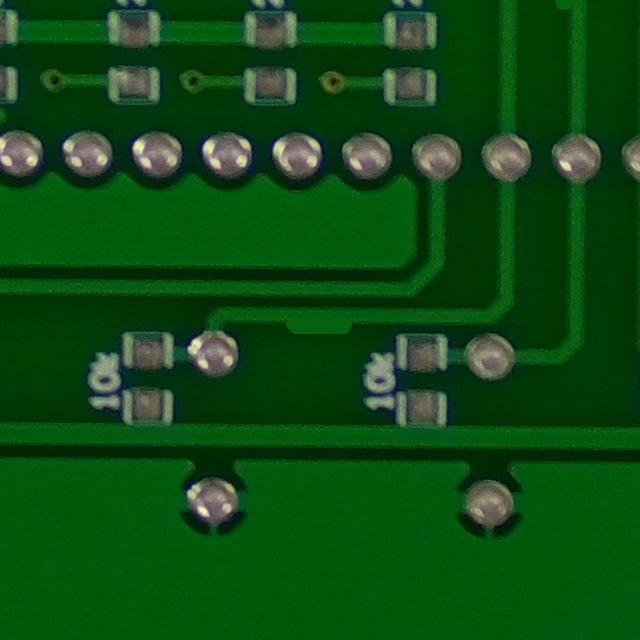spur: (268, 295, 372, 346)
